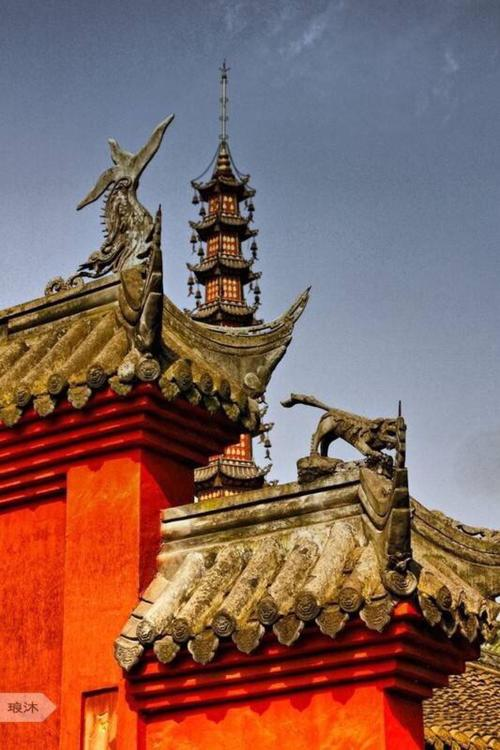buildings: (164, 73, 291, 381)
